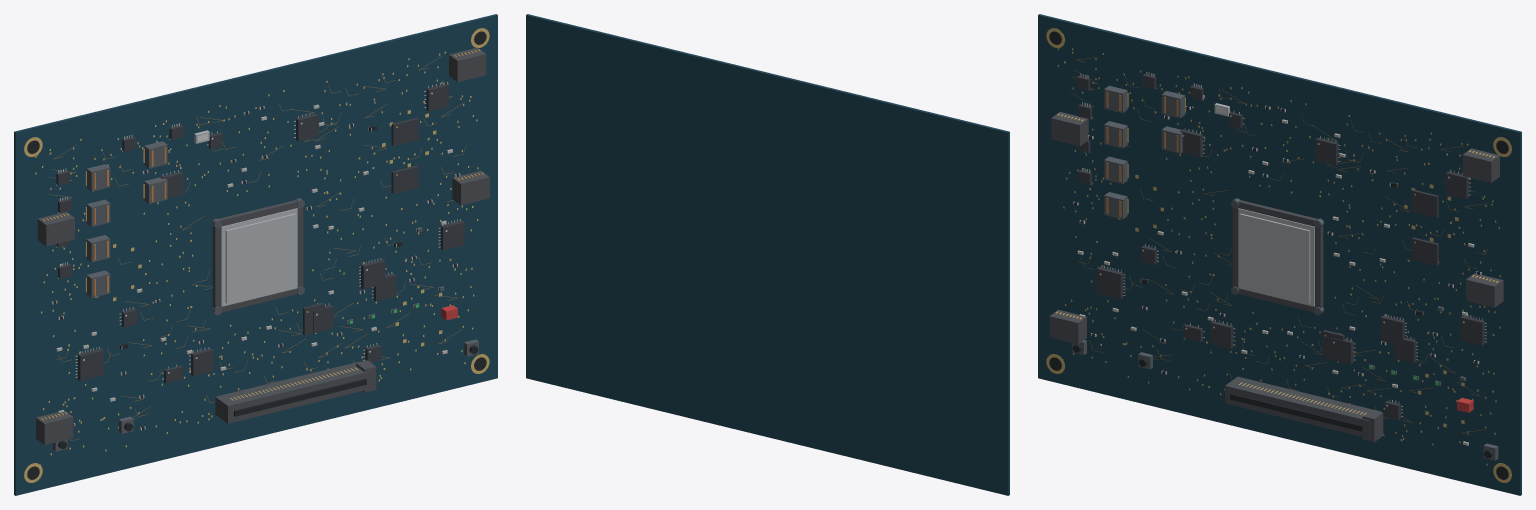
Rendered from L106_SFX14_CompletedVisualReference.glb.
3 renders of one model, left to right at view 1: azimuth 30°, elevation 25°; view 2: azimuth 150°, elevation 25°; view 3: azimuth 330°, elevation 25°, orthographic.
Visible parts, largest first — view 1: 1280_PCB, 2228_ALUMINUM, 1162_PLASTIC, 2025_PLASTIC, 2026_ALUMINUM, 1128_PLASTIC, 1094_PLASTIC, 1145_PLASTIC, 1111_PLASTIC, 1163_BLACK, 640_EPOXY, 258_EPOXY (+8 smaller); view 2: 1280_PCB; view 3: 1280_PCB, 2228_ALUMINUM, 1162_PLASTIC, 2025_PLASTIC, 2026_ALUMINUM, 1128_PLASTIC, 1145_PLASTIC, 1094_PLASTIC, 1111_PLASTIC, 1163_BLACK, 640_EPOXY, 340_EPOXY (+12 smaller).
Boxes of the visible parts, <box> form: 1280_PCB: <box>14,14,497,495</box>; 2228_ALUMINUM: <box>225,213,296,303</box>; 1162_PLASTIC: <box>215,362,371,423</box>; 2025_PLASTIC: <box>212,200,303,312</box>; 2026_ALUMINUM: <box>221,208,297,306</box>; 1128_PLASTIC: <box>449,47,486,81</box>; 1094_PLASTIC: <box>37,212,74,246</box>; 1145_PLASTIC: <box>452,171,489,205</box>; 1111_PLASTIC: <box>36,410,73,444</box>; 1163_BLACK: <box>234,378,366,416</box>; 640_EPOXY: <box>77,348,103,380</box>; 258_EPOXY: <box>391,117,418,146</box>; 1280_PCB: <box>526,14,1009,495</box>; 1280_PCB: <box>1038,14,1521,495</box>; 2228_ALUMINUM: <box>1239,213,1310,303</box>; 1162_PLASTIC: <box>1225,376,1381,438</box>; 2025_PLASTIC: <box>1232,200,1323,312</box>; 2026_ALUMINUM: <box>1238,208,1314,306</box>; 1128_PLASTIC: <box>1462,148,1499,182</box>; 1145_PLASTIC: <box>1466,273,1503,307</box>; 1094_PLASTIC: <box>1051,112,1088,146</box>; 1111_PLASTIC: <box>1049,310,1086,344</box>; 1163_BLACK: <box>1230,393,1362,431</box>; 640_EPOXY: <box>1097,267,1123,299</box>; 340_EPOXY: <box>1411,237,1438,265</box>.
Bounding box in the file's own units: 0.285 × 0.205 × 0.0156.
